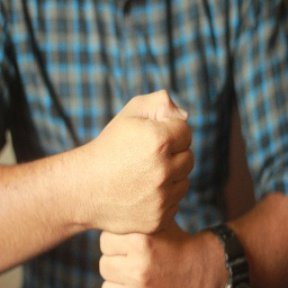G: (78, 89, 198, 288)
